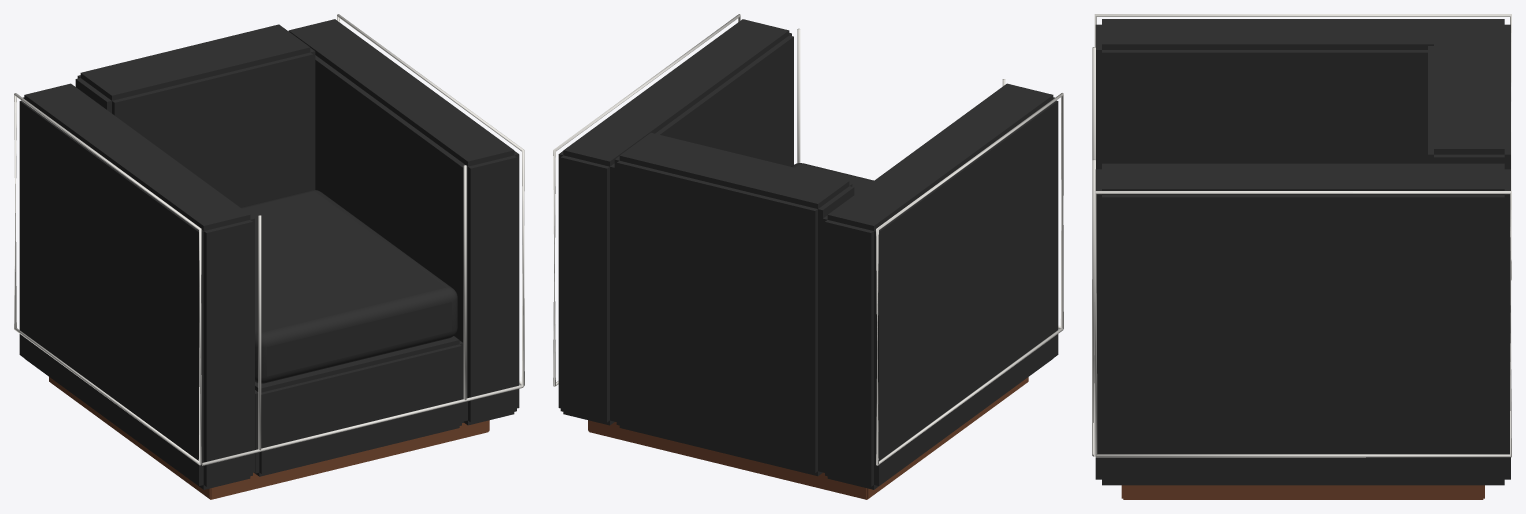
3 renders of one model, left to right at view 1: azimuth 30°, elevation 25°; view 2: azimuth 150°, elevation 25°; view 3: azimuth 270°, elevation 25°, orthographic. The views are drawn at different scales.
Visible parts, largest first — view 1: astral; view 2: astral; view 3: astral.
Boxes of the visible parts, x1,y1,x2,y2 form: astral: (14, 14, 524, 499); astral: (553, 14, 1063, 499); astral: (1092, 14, 1511, 499).
Bounding box in the file's own units: 0.814 × 0.7 × 0.809.
